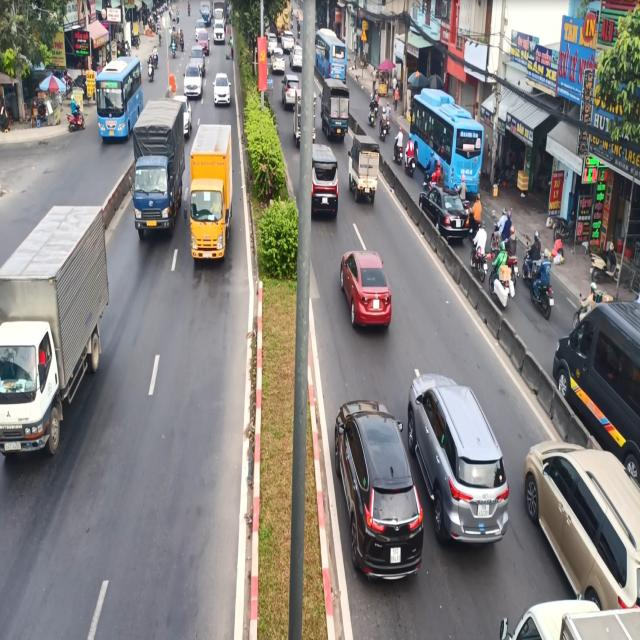bus: (408, 88, 486, 187), (97, 55, 143, 137)
car: (520, 430, 640, 608), (407, 356, 511, 541), (330, 392, 423, 586), (336, 242, 398, 336), (209, 66, 237, 109)
truck: (0, 191, 116, 474), (132, 102, 187, 248), (187, 120, 236, 269), (348, 131, 382, 207)
